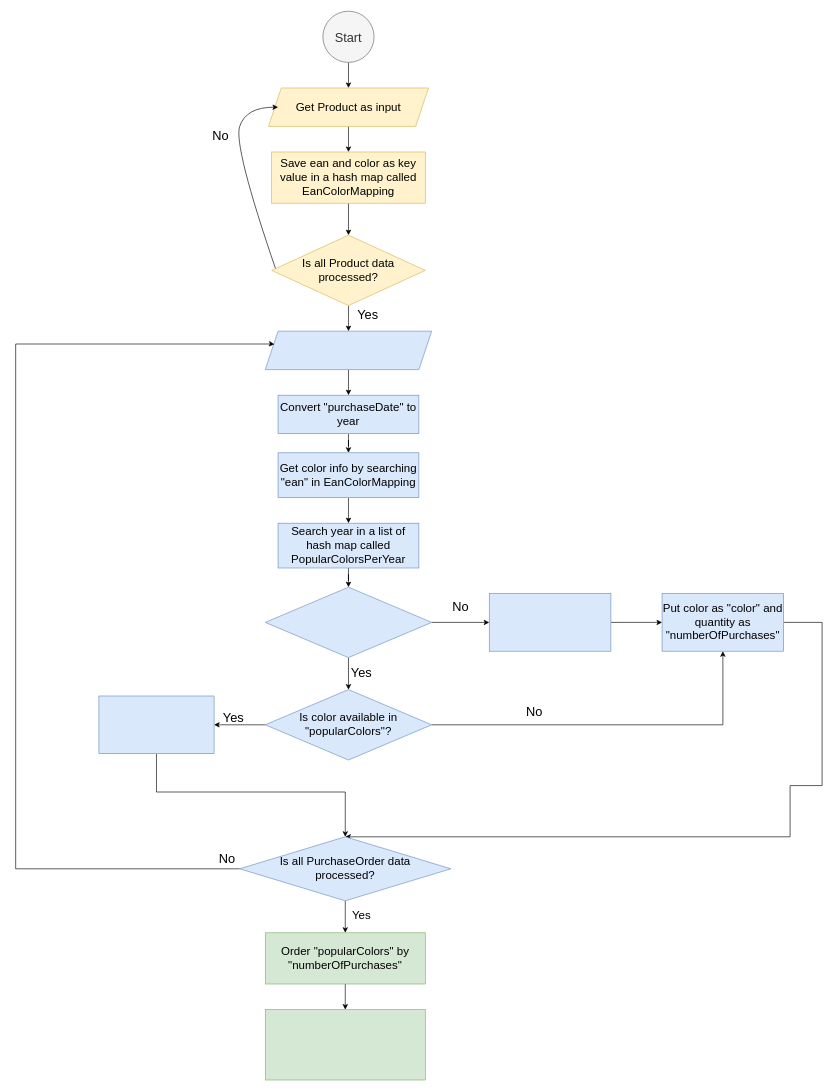
Image size: 838x1091. Some labels were removed from this diagram. The shapes that lost their labels are listed below. From the top down, each one's centre as x and y in pixels, then its label:
(x=348, y=350): Get PurchaseOrder as input
(x=348, y=622): Is it available in PopularColorsPerYear?
(x=550, y=622): Create a year entry. Create a list of hash map with "popularColors" as key
(x=156, y=724): Increase "numberOfPurchases" with quantity
(x=345, y=1044): If number of colors is more than 3 per year, pop colors which are not in top 3
